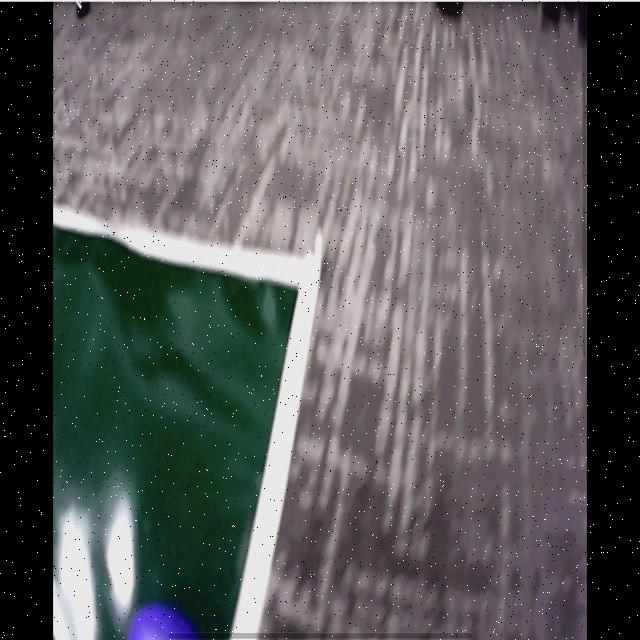ball: (127, 602, 194, 640)
